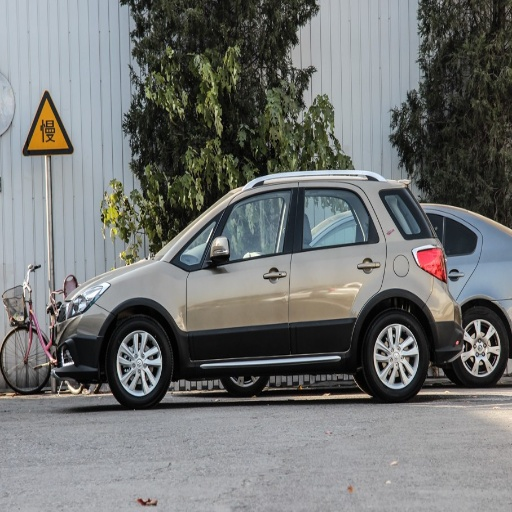back_bumper: (426, 288, 463, 353)
back_glass: (381, 190, 452, 237)
back_left_door: (290, 180, 386, 354)
front_left_door: (179, 181, 298, 360)
